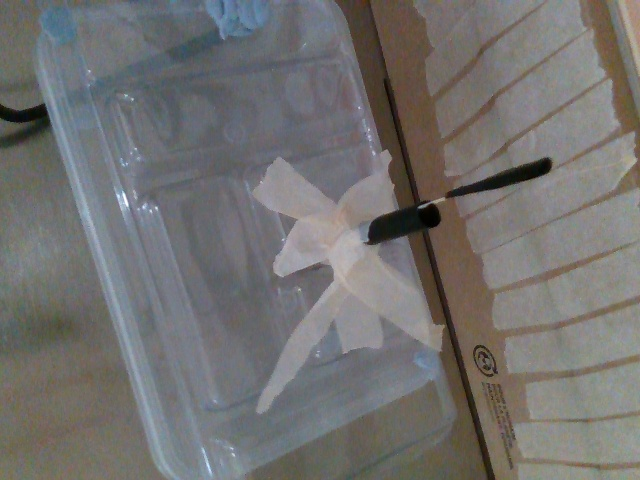test_strip: (415, 155, 552, 210)
